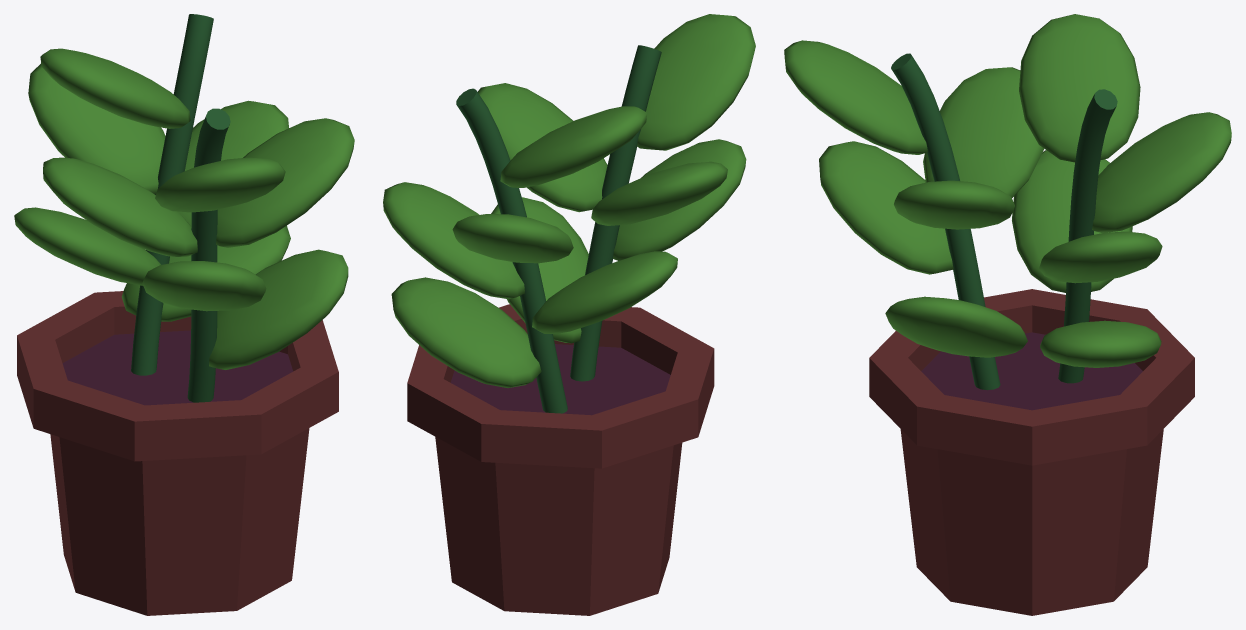
The model's file is Herbs.fbx.
3 views of the same model, side by side, from view 1: azimuth 30°, elevation 25°; view 2: azimuth 150°, elevation 25°; view 3: azimuth 270°, elevation 25° (orthographic). The views are drawn at different scales.
Visible parts, largest first — view 1: Cube.006; view 2: Cube.006; view 3: Cube.006.
Part boxes in pixels (<box>): Cube.006: <box>14,14,354,615</box>; Cube.006: <box>383,14,755,615</box>; Cube.006: <box>784,14,1231,615</box>.
Bounding box in the file's own units: 286 × 484 × 388.
